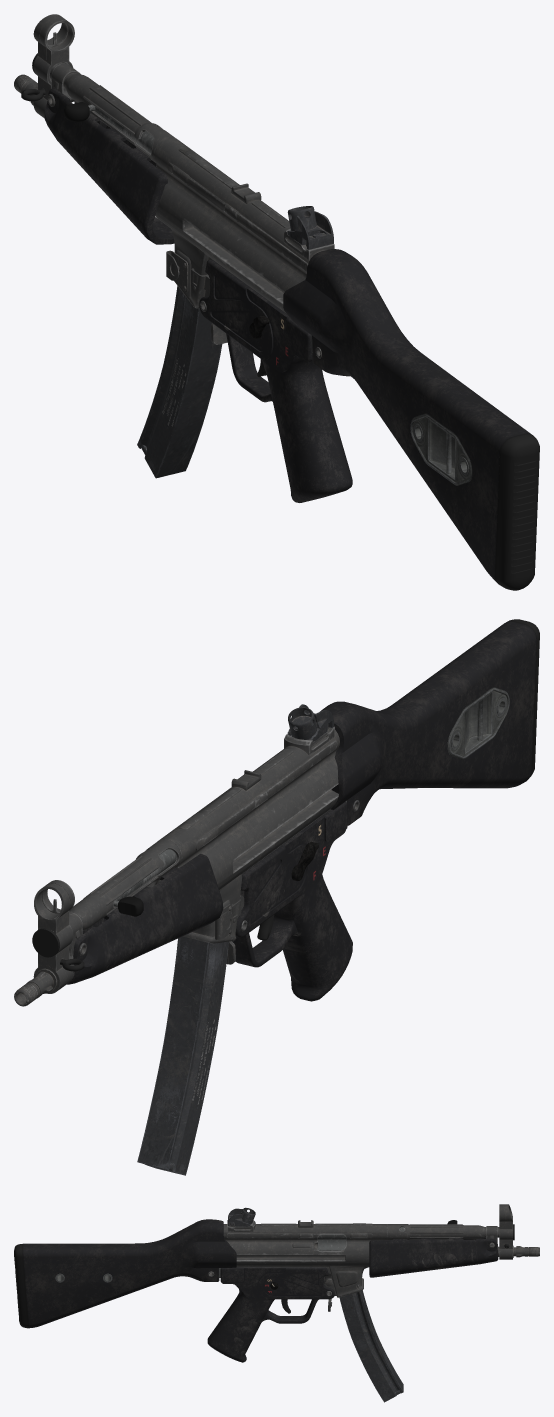
The picture shows the model from 3 angles, top to bottom: view 1: azimuth 30°, elevation 25°; view 2: azimuth 150°, elevation 25°; view 3: azimuth 270°, elevation 25°; orthographic projection. The views are drawn at different scales.
Parts seen in each view (by area): view 1: Buttstock, HandGuard, Reciever, Body, Attachements; view 2: Buttstock, HandGuard, Reciever, Body, Attachements; view 3: Buttstock, HandGuard, Body, Reciever, Attachements.
Boxes of the visible parts, left/top/right/bottom form: Buttstock: left=283, top=249, right=539, bottom=590; HandGuard: left=44, top=87, right=352, bottom=502; Reciever: left=33, top=14, right=222, bottom=478; Body: left=153, top=137, right=334, bottom=313; Attachements: left=14, top=53, right=472, bottom=485; Buttstock: left=320, top=619, right=539, bottom=825; HandGuard: left=67, top=801, right=352, bottom=1001; Reciever: left=33, top=839, right=228, bottom=1175; Body: left=158, top=724, right=339, bottom=943; Attachements: left=14, top=687, right=509, bottom=1006; Buttstock: left=14, top=1219, right=236, bottom=1328; HandGuard: left=207, top=1237, right=498, bottom=1362; Body: left=223, top=1217, right=387, bottom=1297; Reciever: left=339, top=1204, right=512, bottom=1402; Attachements: left=55, top=1207, right=539, bottom=1313.
Size of the model in its own units: 0.0811 by 0.3658 by 0.901.
5 materials, 5 textured.
